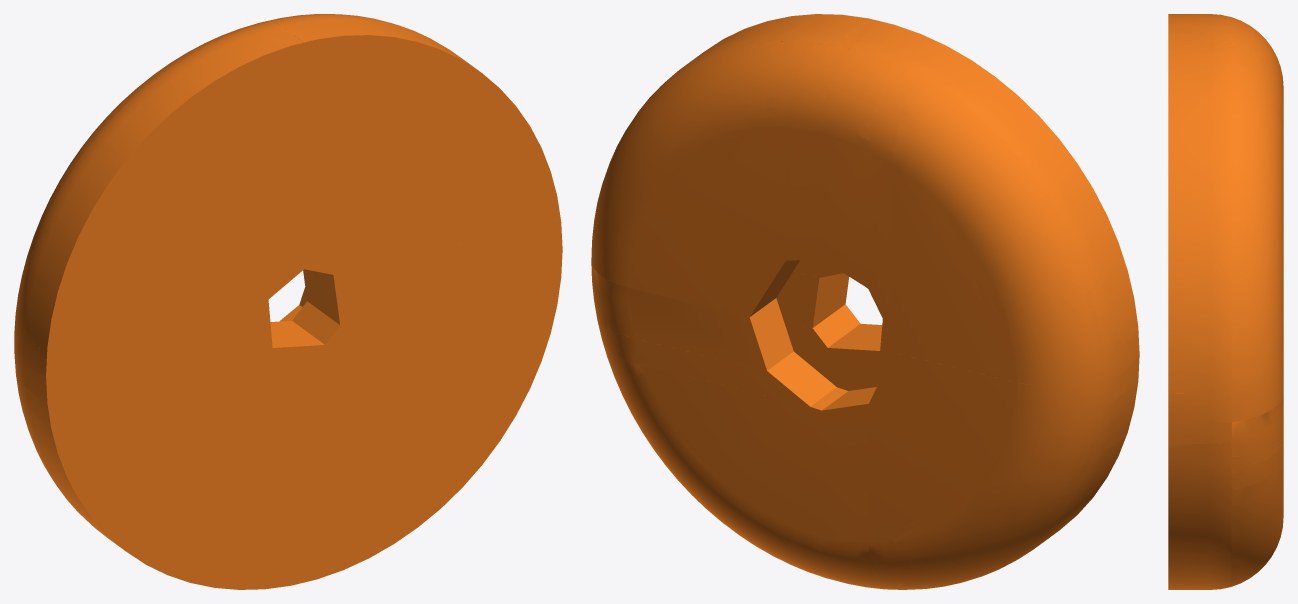
3 views of the same model, side by side, from view 1: azimuth 30°, elevation 25°; view 2: azimuth 150°, elevation 25°; view 3: azimuth 270°, elevation 25° (orthographic). The views are drawn at different scales.
Visible parts, largest first — view 1: gripper_frame; view 2: gripper_frame; view 3: gripper_frame.
Part boxes in pixels (x1=…): gripper_frame: x1=14, y1=14, x2=562, y2=589; gripper_frame: x1=591, y1=14, x2=1139, y2=589; gripper_frame: x1=1168, y1=14, x2=1283, y2=589.
Size of the model in its own units: 0.025 by 0.025 by 0.005.
